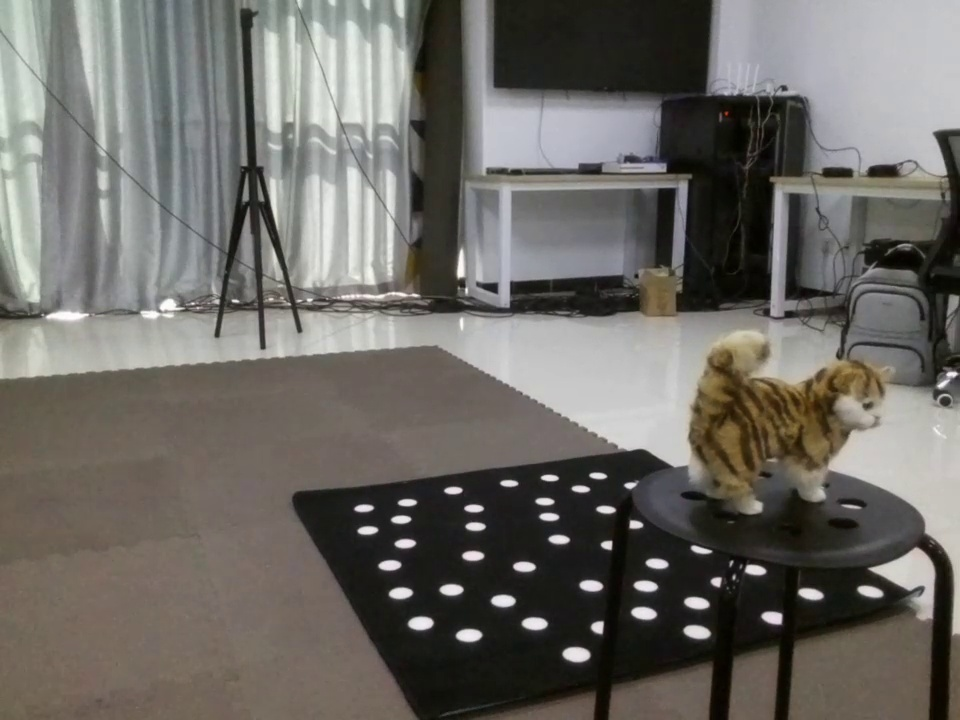cat: (653, 325, 912, 522)
